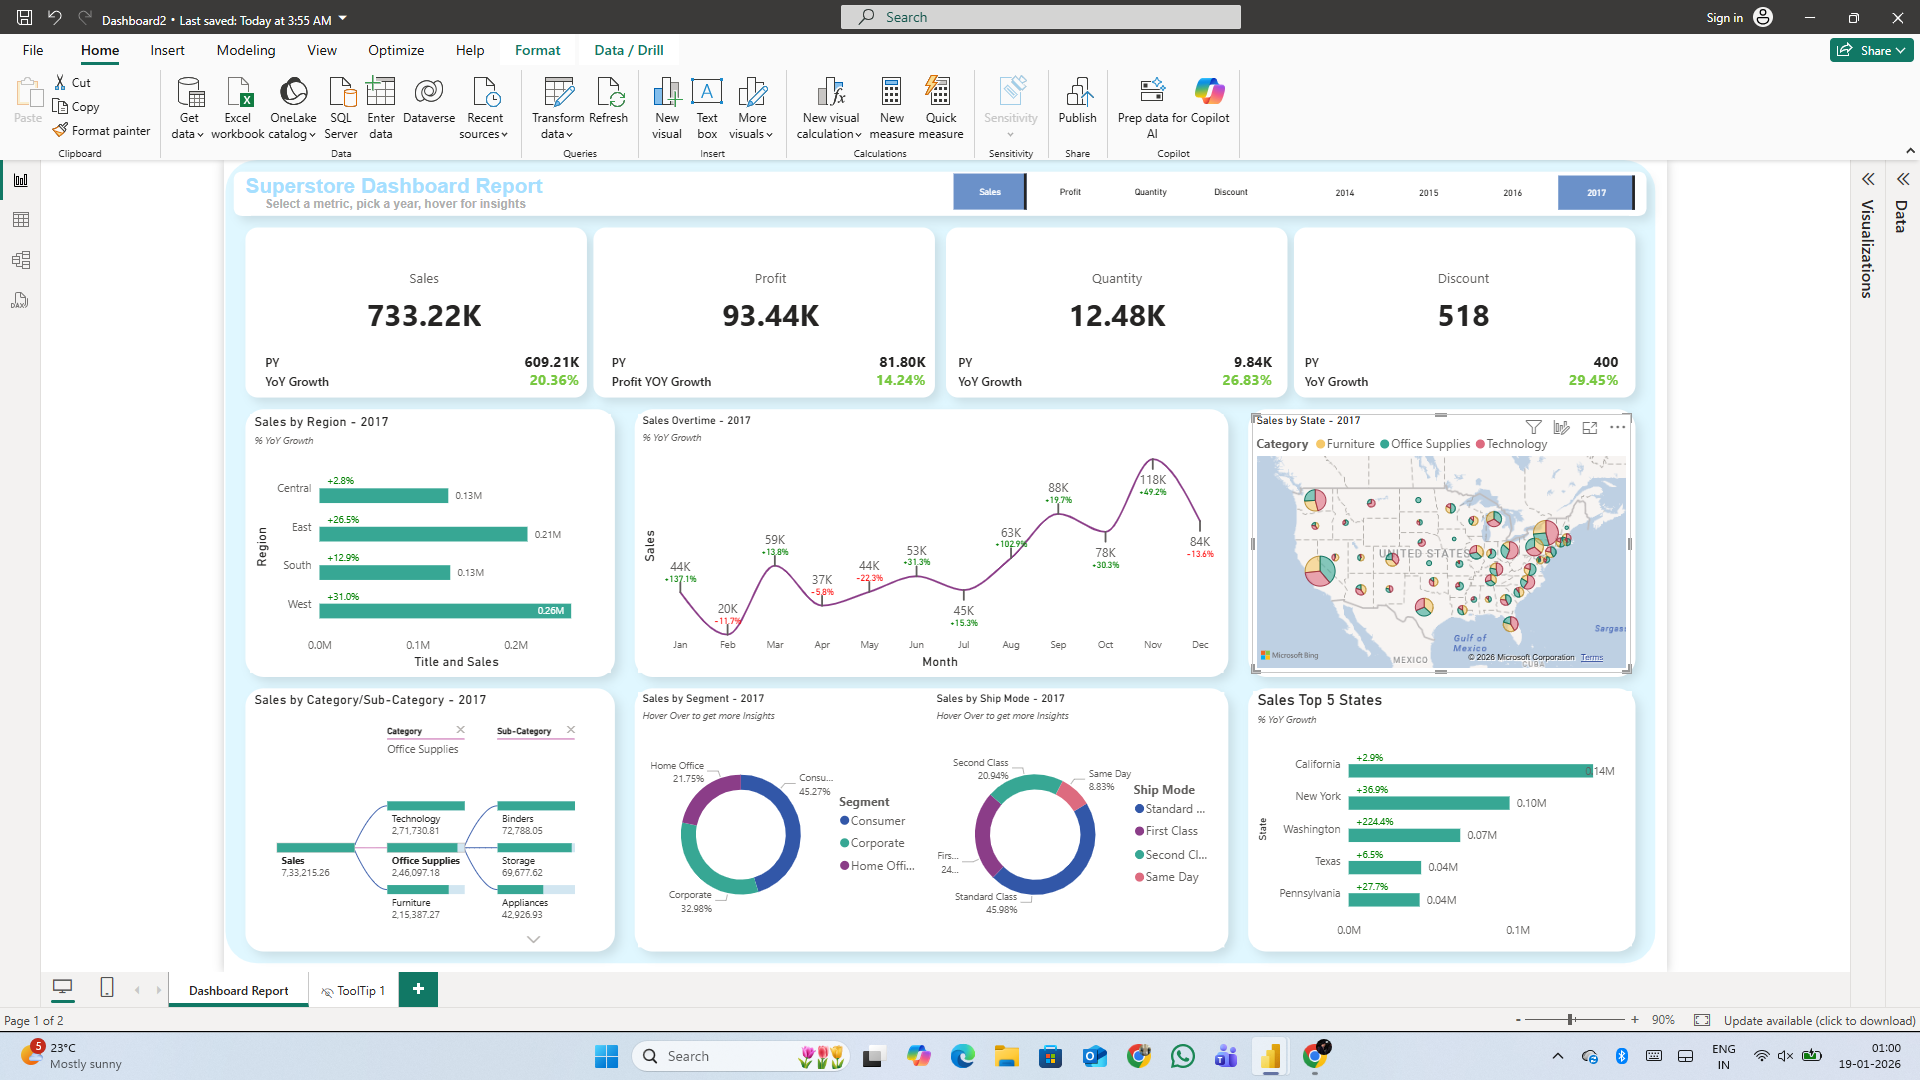

The page's visual inventory and layout, read from the dashboard file:
{"tool":"powerbi","page":{"name":"Dashboard Report","canvas":[1600,900],"ordinal":0},"visuals":[{"type":"cardVisual","fields":{"Data":["Measure Table.Total Sales","Measure Table.Total Profit","Measure Table.Total Quantity Sold","Measure Table.Total Discount"]},"box":[28.9,71.1,1541,200],"z":0},{"type":"advancedSlicerVisual","fields":{"Values":["DimDate.Year"]},"box":[1195.2,12,374.7,48.2],"z":1000},{"type":"advancedSlicerVisual","fields":{"Values":["Select Measure.Select Measure"]},"box":[793.8,0,380.6,70.4],"z":2000},{"type":"clusteredBarChart","fields":{"Y":["Measure Table.Title","Measure Table.Total Quantity Sold"],"Category":["DimLocation.Region"]},"box":[28.4,281.8,400,287],"z":3000},{"type":"decompositionTreeVisual","fields":{"Analyze":["Measure Table.Total Quantity Sold"],"ExplainBy":["DimProducts.Category","DimProducts.Sub-Category"]},"box":[28.9,589.2,400,298.8],"z":4000},{"type":"lineChart","fields":{"Y":["Measure Table.Total Quantity Sold"],"Category":["DimDate.Month"]},"box":[459.2,281.8,648.9,287.2],"z":5000},{"type":"donutChart","fields":{"Y":["Measure Table.Total Quantity Sold"],"Category":["DimCustomers.Segment"]},"box":[459.2,589.3,322,283.1],"z":6000},{"type":"donutChart","fields":{"Y":["Measure Table.Total Quantity Sold"],"Category":["DimOrders.Ship Mode"]},"box":[784.3,589.3,323.8,283.1],"z":7000},{"type":"map","fields":{"Category":["DimLocation.State"],"Series":["DimProducts.Category"],"Size":["Measure Table.Total Quantity Sold"]},"box":[1139.8,281.9,419.3,286.7],"z":8000},{"type":"clusteredBarChart","fields":{"Category":["DimLocation.State"],"Y":["Measure Table.Title","Select Measure.SelectedMeasureValue"]},"box":[1141,589,420,283],"z":9000}]}

Visuals, with their boxes on the page's 1600x900 design canvas (x1, y1, x2, y2). These are canvas units, not pixel positions in the 1920x1080 screenshot, which may show the page scaled, cropped or inside an application window:
cardVisual - Measure Table.Total Sales x Measure Table.Total Profit: box=[29, 71, 1570, 271]
advancedSlicerVisual - DimDate.Year: box=[1195, 12, 1570, 60]
advancedSlicerVisual - Select Measure.Select Measure: box=[794, 0, 1174, 70]
clusteredBarChart - Measure Table.Title x Measure Table.Total Quantity Sold: box=[28, 282, 428, 569]
decompositionTreeVisual - Measure Table.Total Quantity Sold x DimProducts.Category: box=[29, 589, 429, 888]
lineChart - Measure Table.Total Quantity Sold x DimDate.Month: box=[459, 282, 1108, 569]
donutChart - Measure Table.Total Quantity Sold x DimCustomers.Segment: box=[459, 589, 781, 872]
donutChart - Measure Table.Total Quantity Sold x DimOrders.Ship Mode: box=[784, 589, 1108, 872]
map - DimLocation.State x DimProducts.Category: box=[1140, 282, 1559, 569]
clusteredBarChart - DimLocation.State x Measure Table.Title: box=[1141, 589, 1561, 872]
